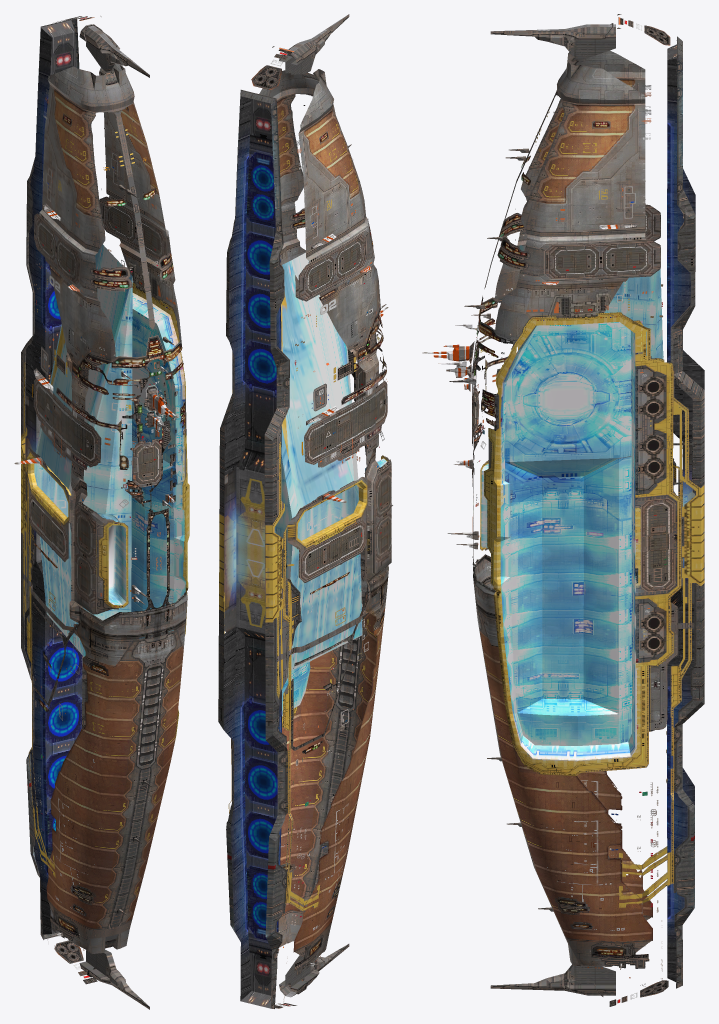
3 views of the same model, side by side, from view 1: azimuth 30°, elevation 25°; view 2: azimuth 150°, elevation 25°; view 3: azimuth 270°, elevation 25° (orthographic). The views are drawn at different scales.
Parts seen in each view (by area): view 1: side_upper, side_lower, leftover, engine1, badge1, leftover_bay; view 2: side_upper, engine1, side_lower, leftover, badge1; view 3: side_lower, side_upper, engine1, leftover.
Part boxes in pixels (<box>): side_upper: <box>14,16,187,1009</box>; side_lower: <box>21,24,189,950</box>; leftover: <box>34,244,189,656</box>; engine1: <box>24,20,82,934</box>; badge1: <box>54,289,74,351</box>; leftover_bay: <box>108,525,115,593</box>; side_upper: <box>224,14,391,1008</box>; engine1: <box>223,96,282,1008</box>; side_lower: <box>218,15,392,1008</box>; leftover: <box>236,252,386,672</box>; badge1: <box>327,295,358,345</box>; side_lower: <box>446,24,704,988</box>; side_upper: <box>422,14,704,1006</box>; engine1: <box>667,44,704,981</box>; leftover: <box>474,245,682,596</box>.
Size of the model in its own units: 315 by 2468 by 642.
